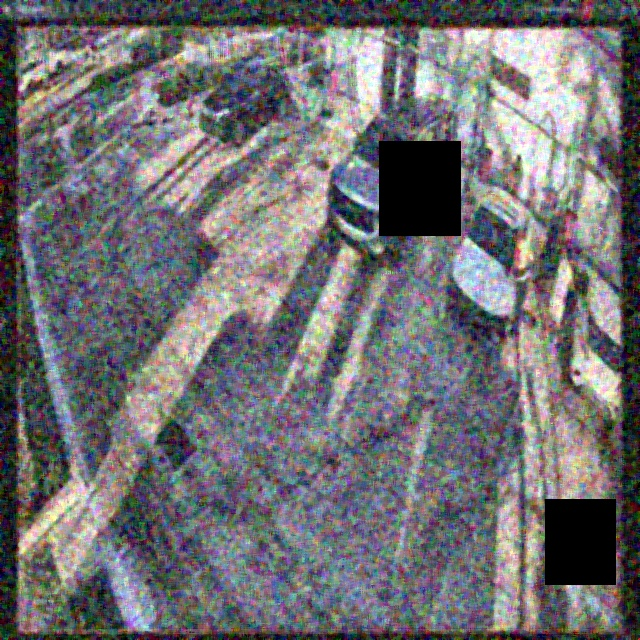Car: (326, 98, 453, 267), (448, 186, 531, 345), (200, 56, 290, 149)
